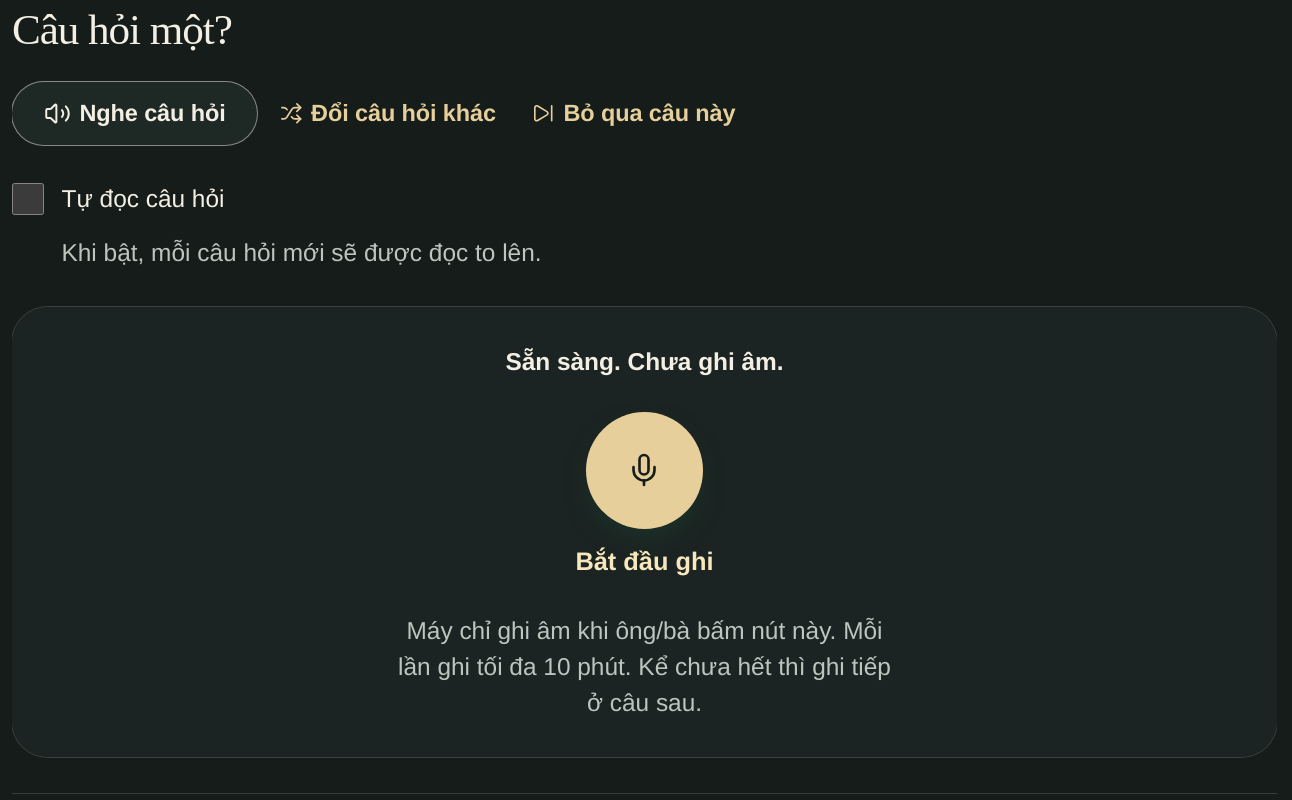
Scenario: SessionFlow › shows the question big and rotates with "Đổi câu hỏi khác"
Expected: the heading reads "Câu hỏi một?", top-left (12, 6), bottom-right (232, 53)
Click the button "Đổi câu hỏi khác". click: (388, 113)
box: top-left (266, 82), bottom-right (509, 145)
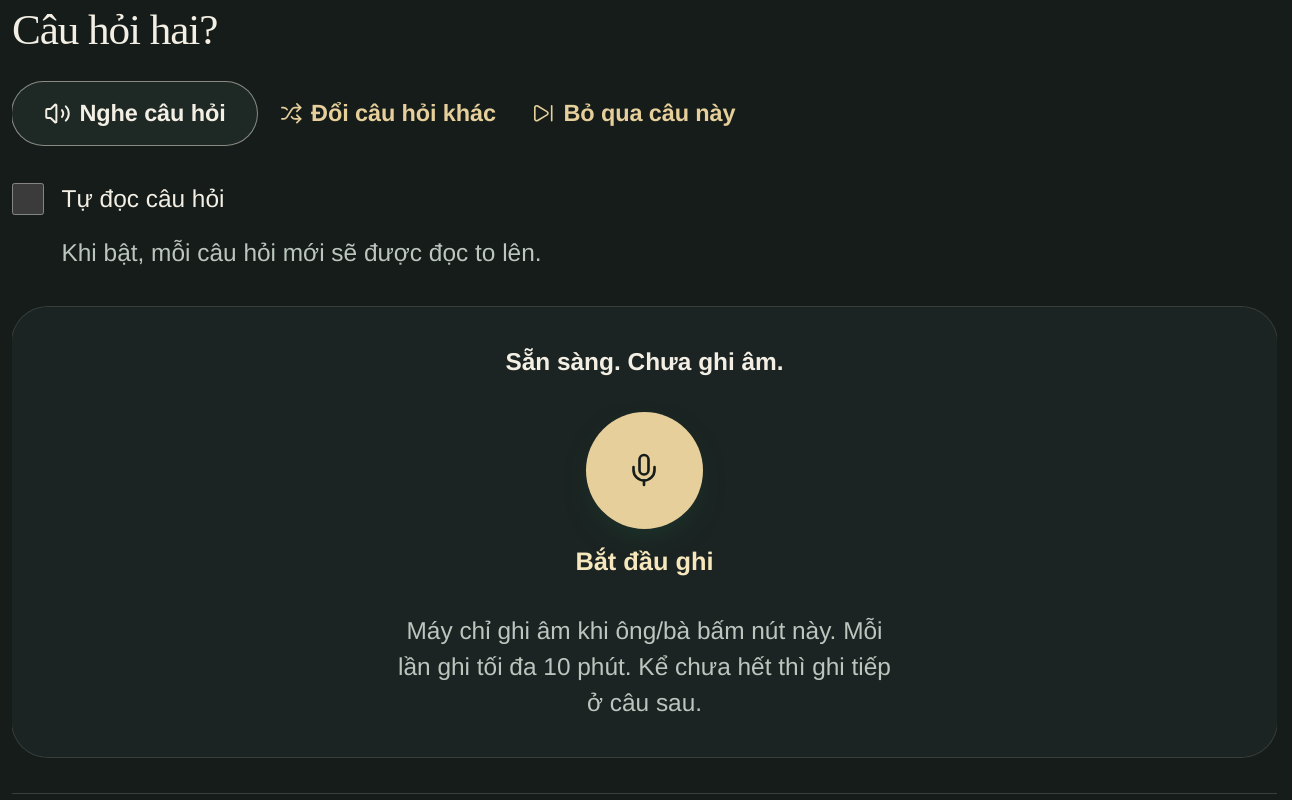
Expected: the heading reads "Câu hỏi hai?", top-left (12, 6), bottom-right (217, 53)
